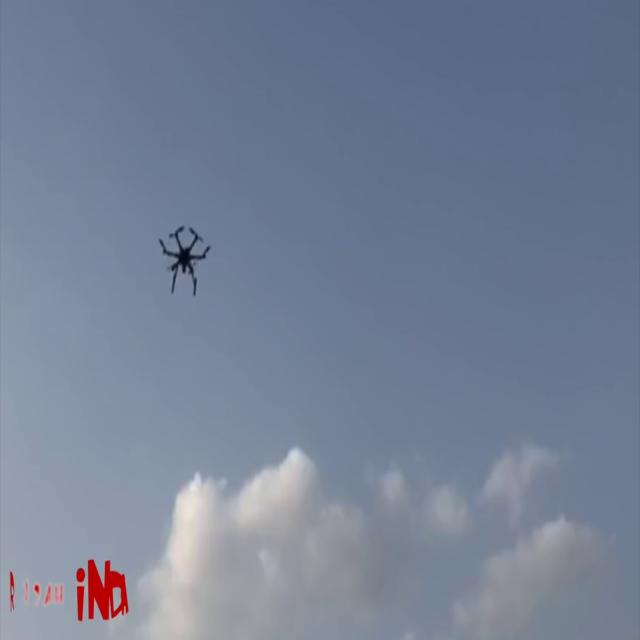drone: (153, 212, 219, 302)
